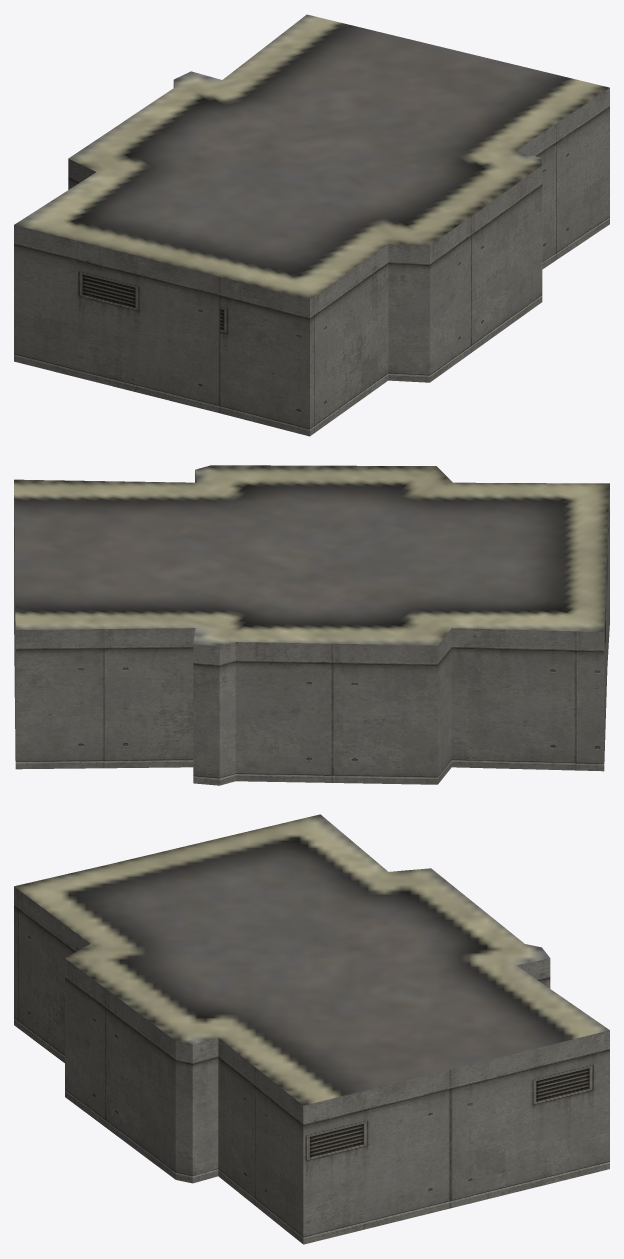
Rendered from building_medium_02.glb.
3 views of the same model, one above another, from view 1: azimuth 30°, elevation 25°; view 2: azimuth 150°, elevation 25°; view 3: azimuth 270°, elevation 25° (orthographic).
Visible parts, largest first — view 1: buildings/saxarba/building_medium/building_medium_02; view 2: buildings/saxarba/building_medium/building_medium_02; view 3: buildings/saxarba/building_medium/building_medium_02.
Boxes of the visible parts, left/top/right/bottom form: buildings/saxarba/building_medium/building_medium_02: left=14, top=14, right=609, bottom=436; buildings/saxarba/building_medium/building_medium_02: left=14, top=465, right=609, bottom=785; buildings/saxarba/building_medium/building_medium_02: left=14, top=814, right=609, bottom=1244.
Size of the model in its own units: 81 by 18 by 70.
